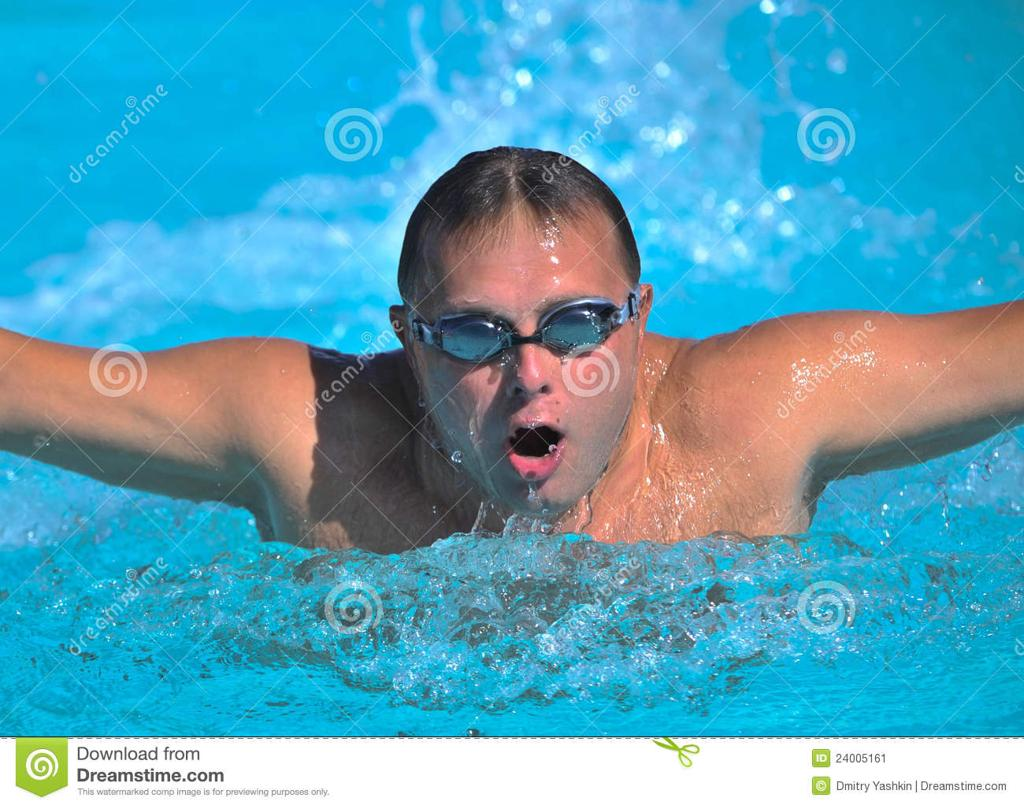face: (422, 266, 640, 520)
